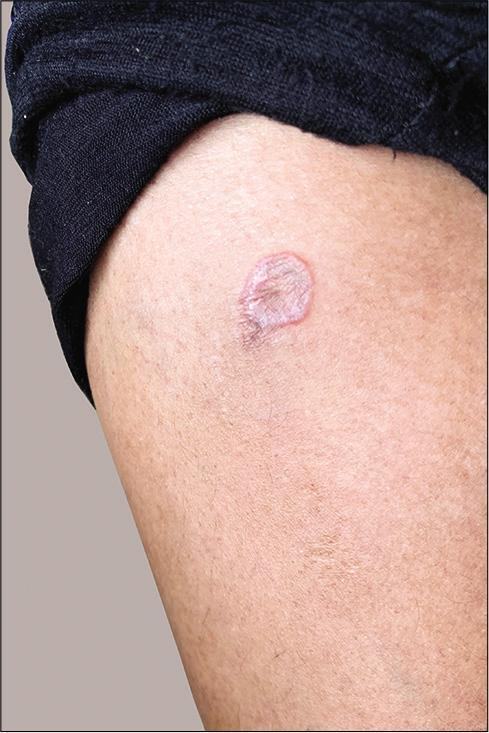annular lichen planus: (205, 229, 349, 368)
